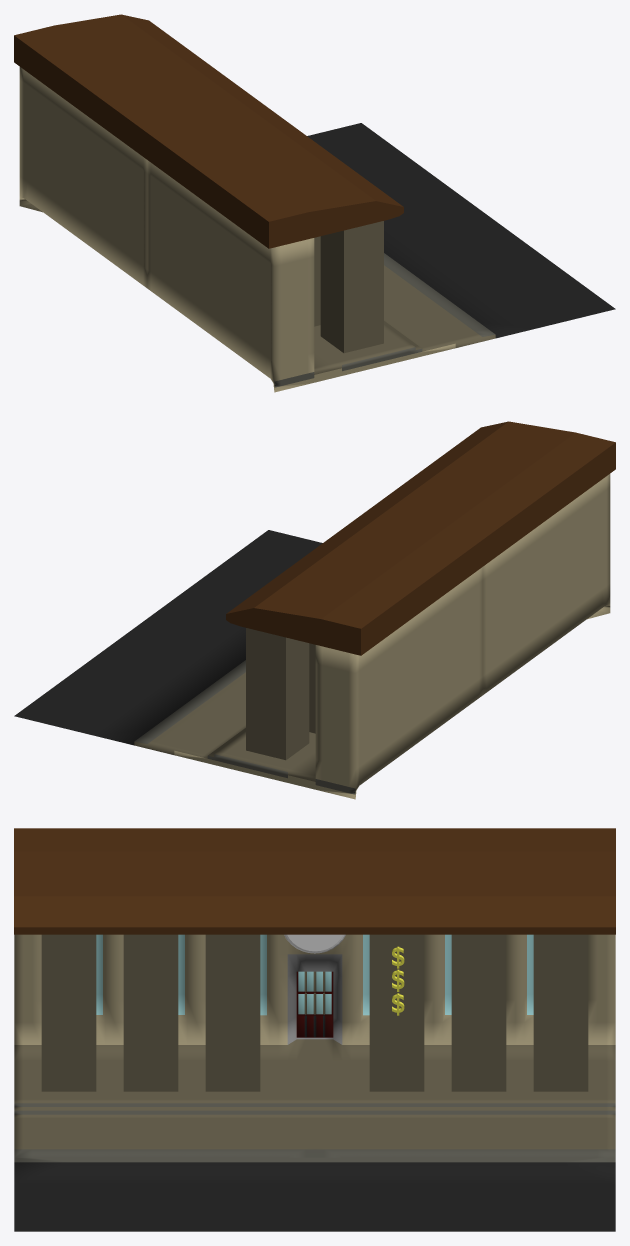
File: bank_1.fbx
3 renders of one model, top to bottom at view 1: azimuth 30°, elevation 25°; view 2: azimuth 150°, elevation 25°; view 3: azimuth 270°, elevation 25°, orthographic. The views are drawn at different scales.
Parts seen in each view (by area): view 1: Плоскость, Куб; view 2: Плоскость, Куб; view 3: Плоскость, Куб, Цилиндр, Текст.
Boxes of the visible parts, x1=… form: Плоскость: x1=19, y1=67, x2=615, y2=392; Куб: x1=14, y1=14, x2=403, y2=248; Плоскость: x1=14, y1=474, x2=610, y2=799; Куб: x1=226, y1=421, x2=615, y2=655; Плоскость: x1=14, y1=934, x2=615, y2=1231; Куб: x1=14, y1=828, x2=615, y2=934; Цилиндр: x1=284, y1=934, x2=345, y2=953; Текст: x1=392, y1=946, x2=404, y2=1015.
Bounding box in the file's own units: 4650 × 2202 × 5910.
